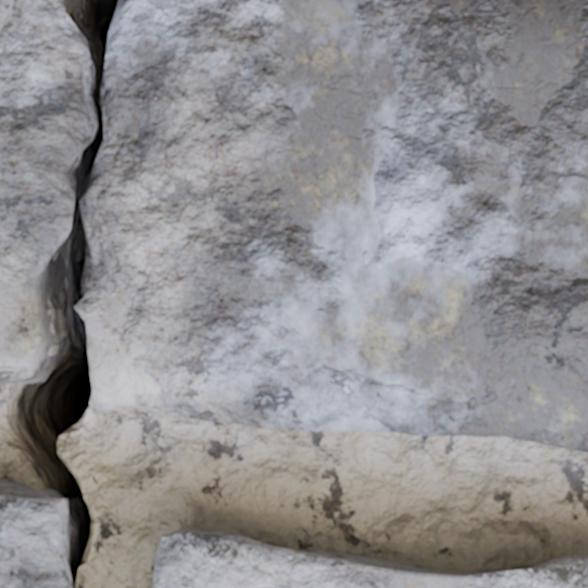brick: (153, 528, 587, 587), (0, 481, 72, 587)
broken_brick: (76, 0, 587, 453), (0, 0, 93, 386)
crack: (0, 0, 127, 586)
